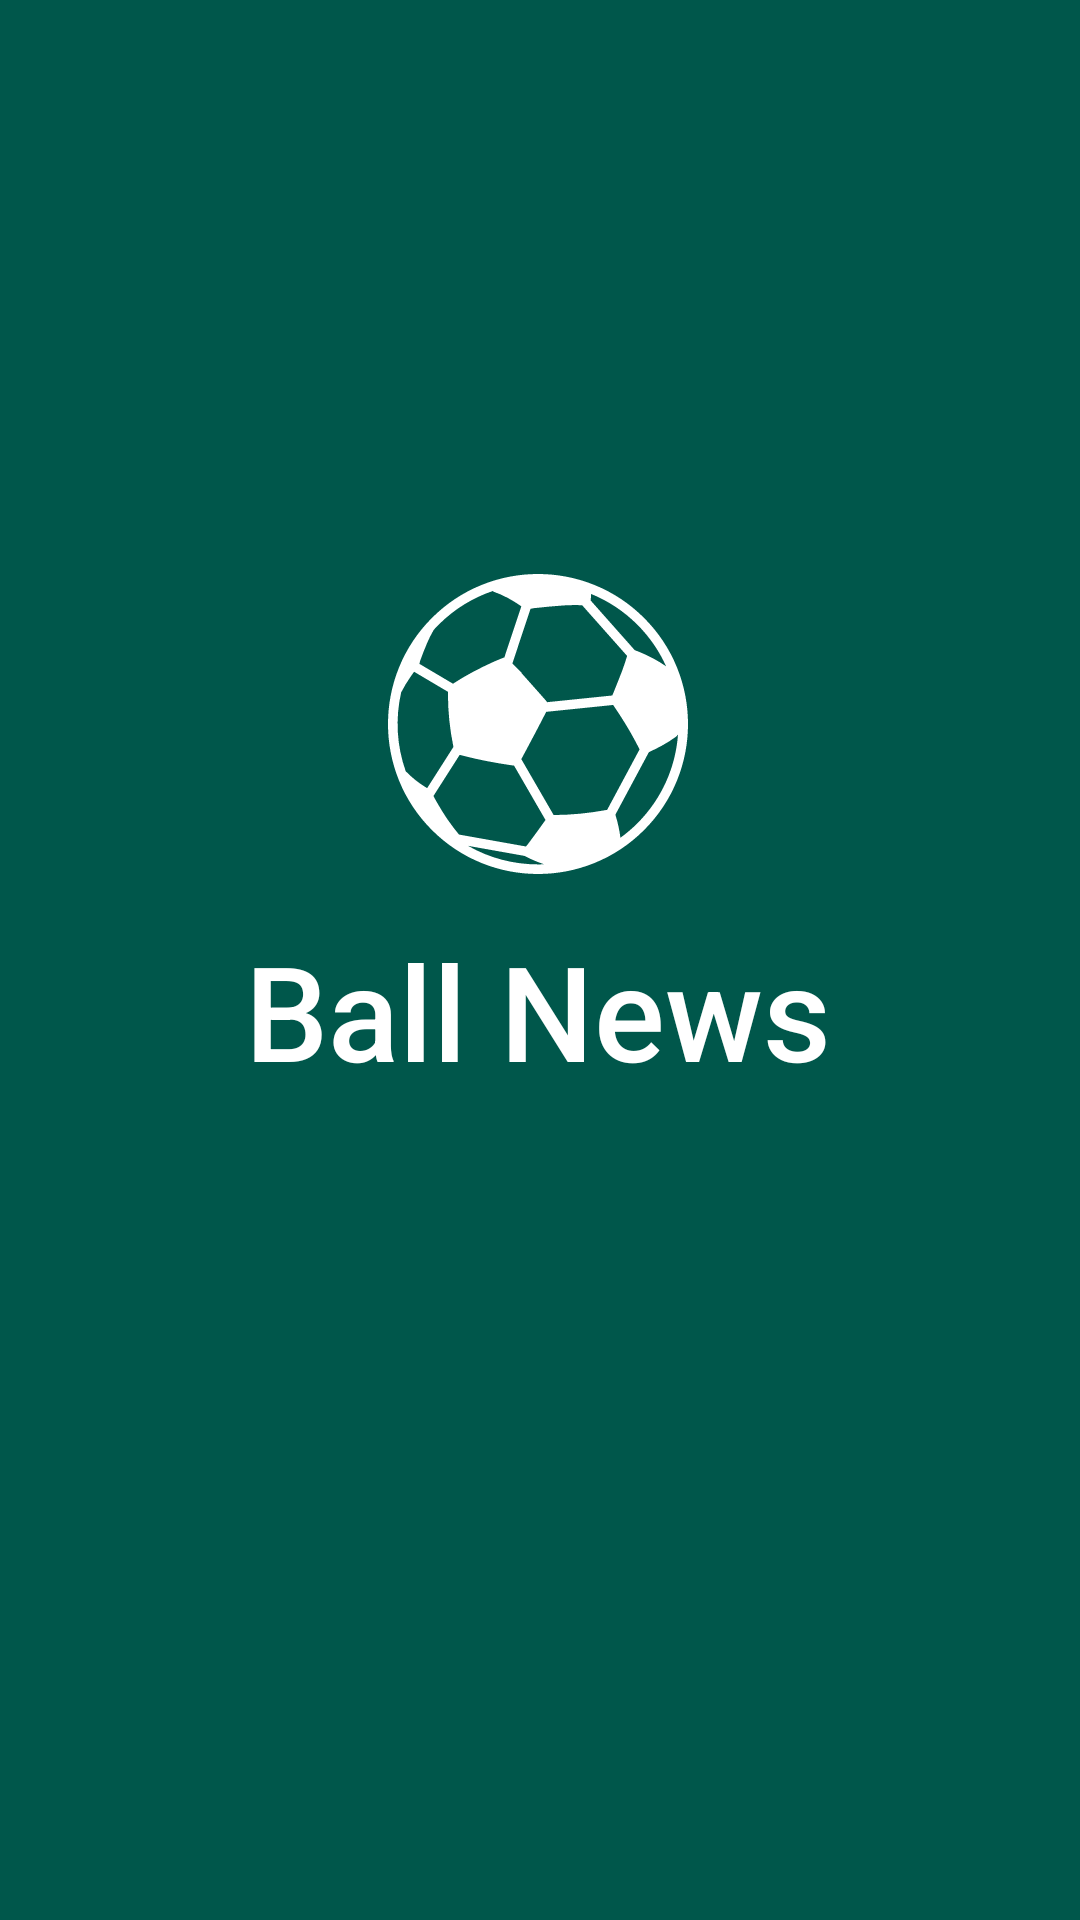

Where to tap for icons on this 1080×1920 app screen, as [x,y]:
football ball: [538,724]
